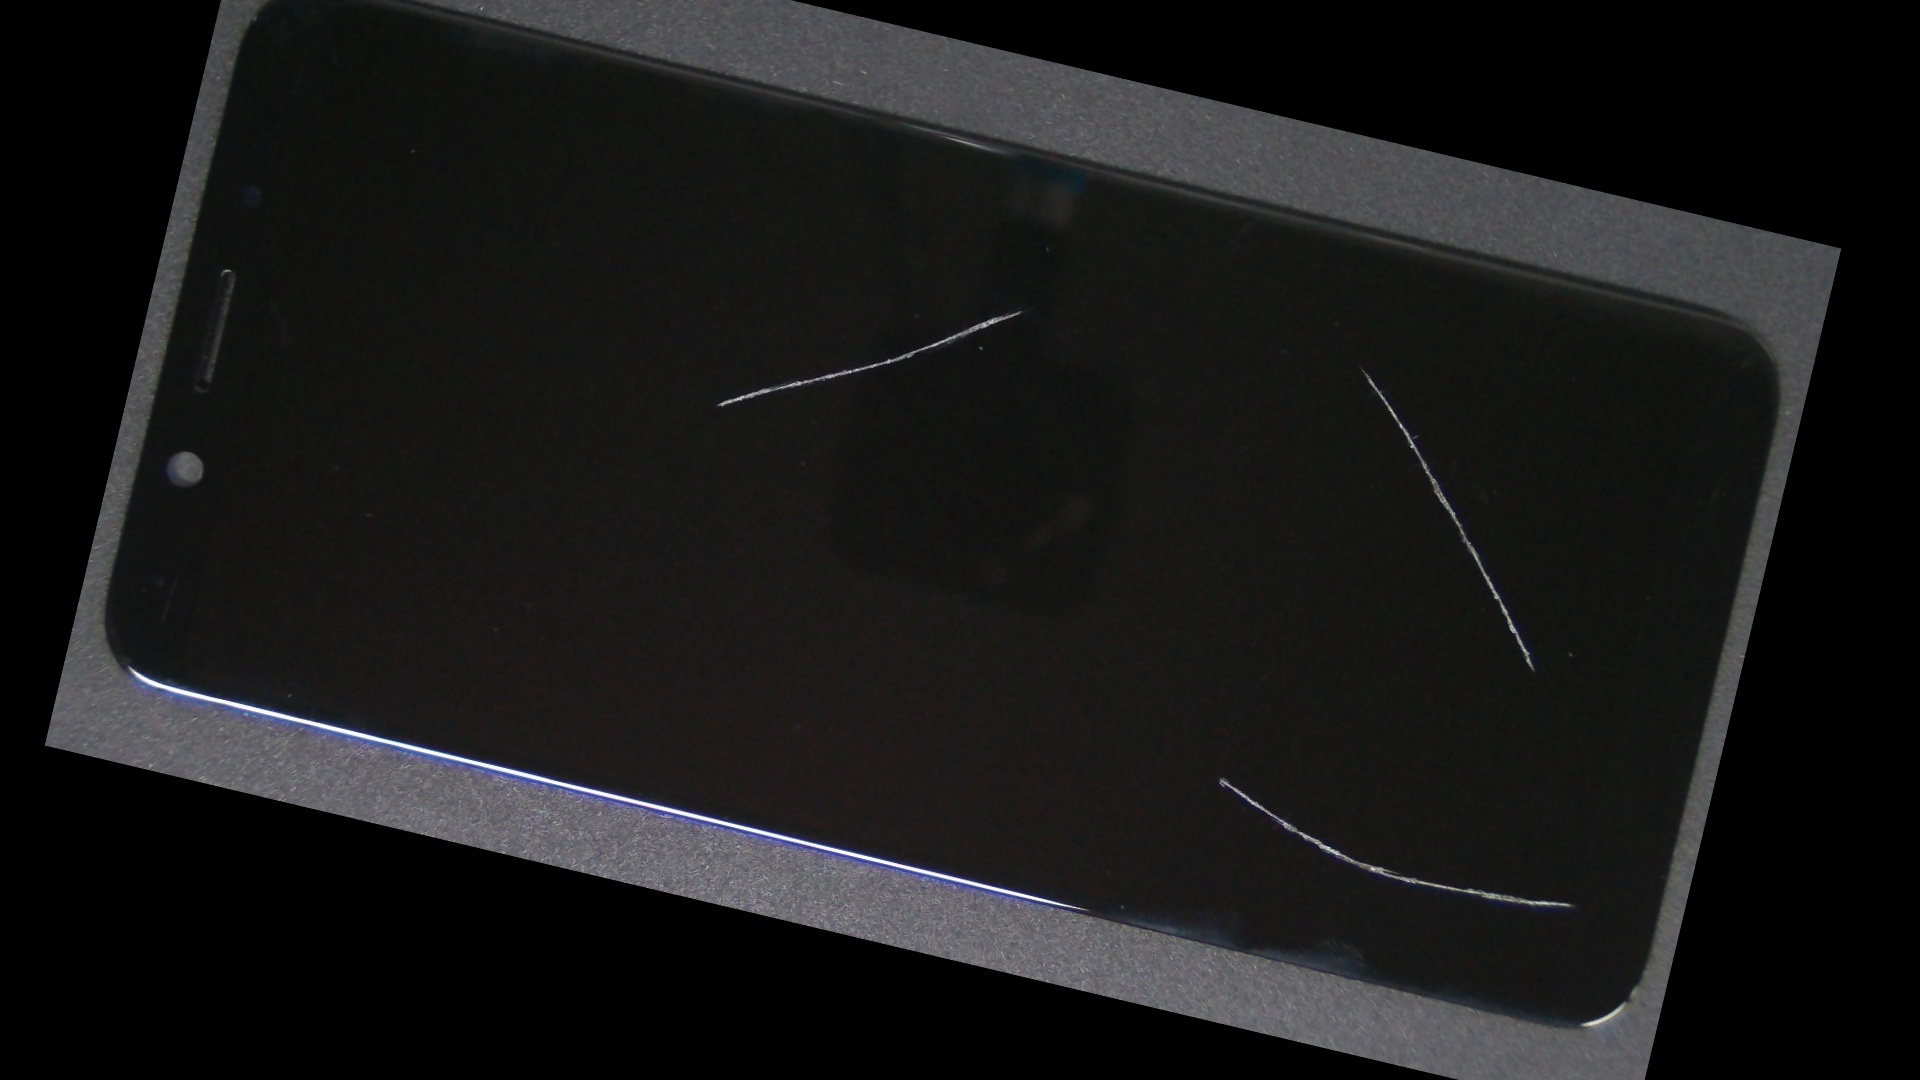oil: (607, 324, 1766, 1080), (754, 120, 1816, 580), (579, 91, 1460, 530)
